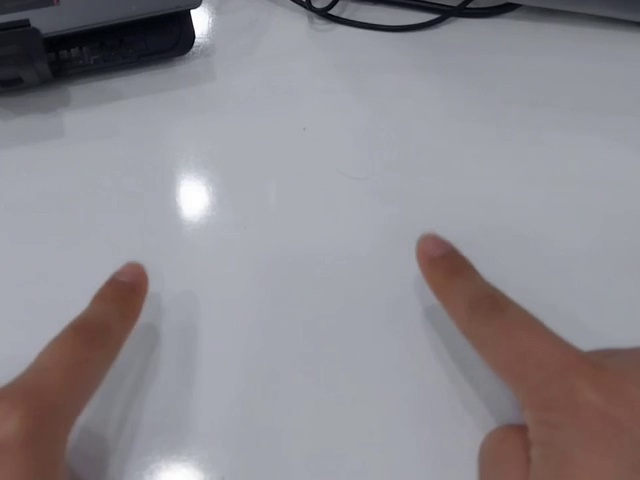fingers: (415, 231, 472, 290), (97, 261, 149, 316)
